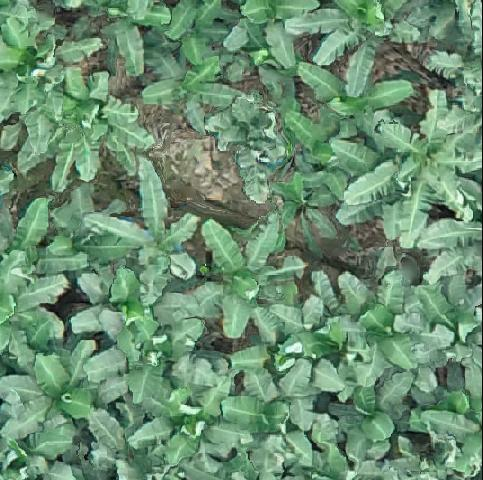Banana-plant: (343, 97, 483, 235), (173, 213, 299, 338), (92, 161, 195, 298), (0, 345, 120, 455), (32, 78, 150, 181), (241, 304, 349, 405), (327, 274, 423, 381), (224, 364, 323, 467), (0, 7, 94, 114), (296, 2, 427, 78), (136, 387, 239, 480), (86, 323, 202, 403), (76, 267, 179, 350), (402, 268, 483, 371), (306, 55, 409, 134), (138, 59, 239, 138), (97, 0, 173, 73)
